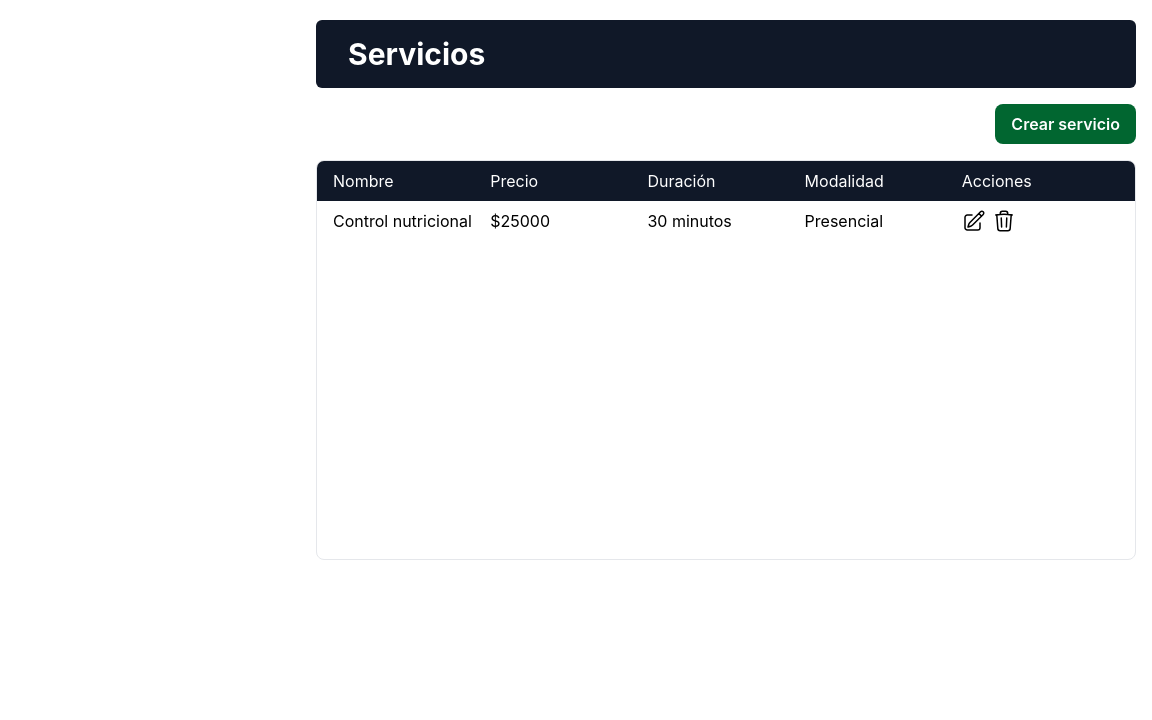
Test: AdministracionServicios › edita con el ID original y muestra el nombre de la lista actualizada
The image size is (1152, 720).
Click the button named "Editar Control nutricional" at (974, 221), box x1=962 y1=209 x2=986 y2=233
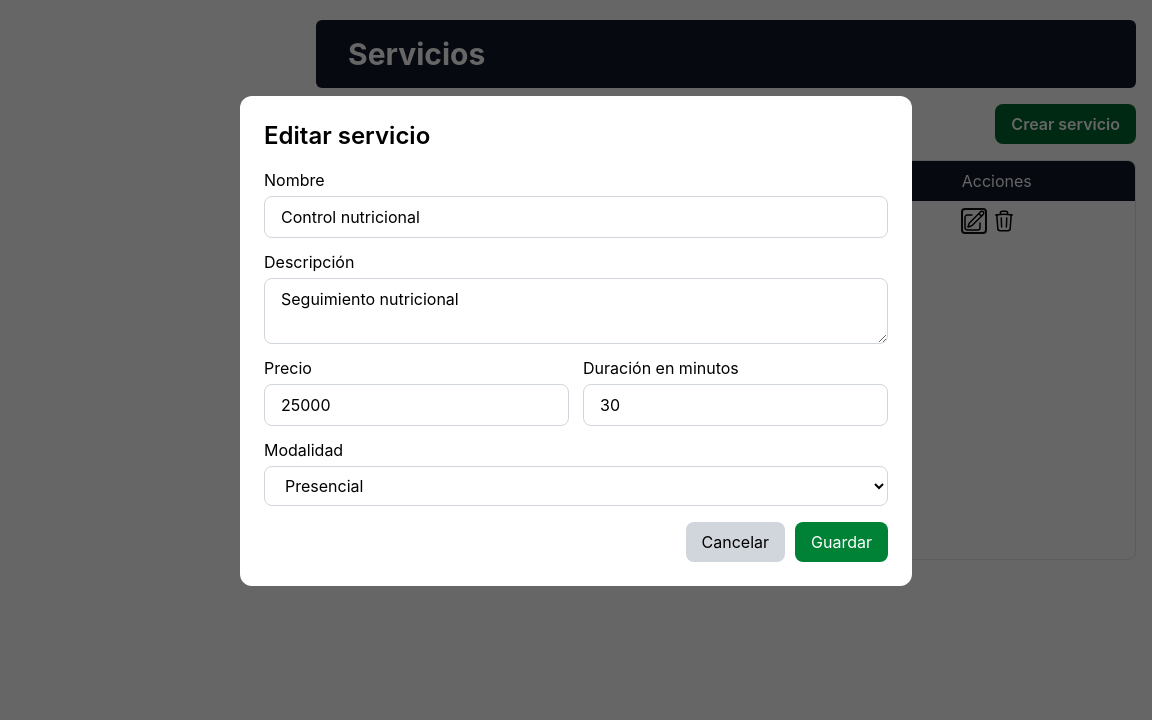
Expected: the text box labelled "Descripción" holds "Seguimiento nutricional", x1=264 y1=278 x2=888 y2=344
Replace the text in the field labelled "Nombre" with "Control avanzado" at (576, 217), box x1=264 y1=196 x2=888 y2=238
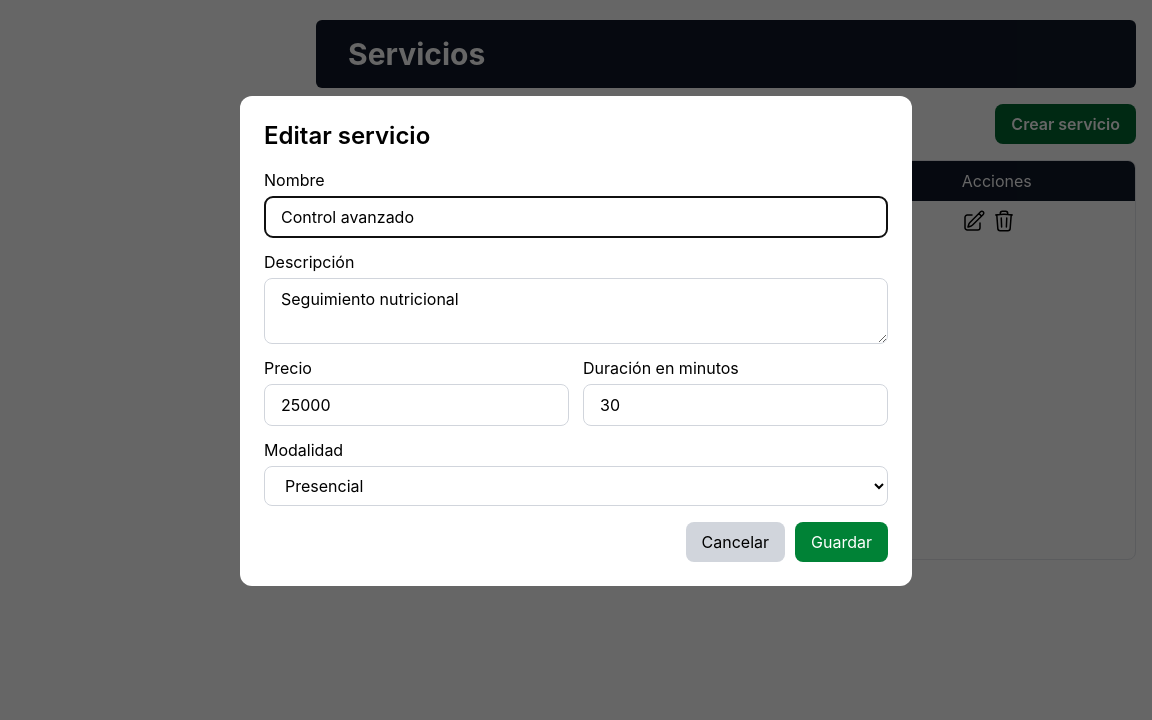
Click the button "Guardar" at (842, 542), box x1=795 y1=522 x2=888 y2=562
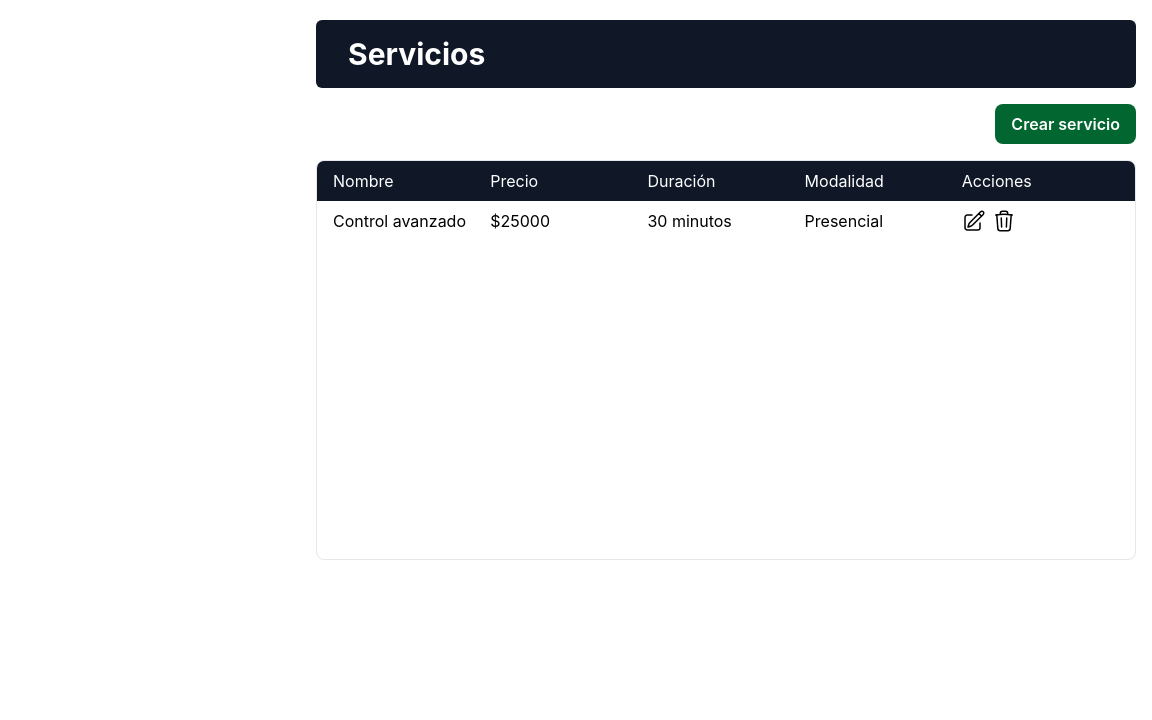
Expected: the text "Control avanzado" is shown, x1=333 y1=211 x2=466 y2=231
